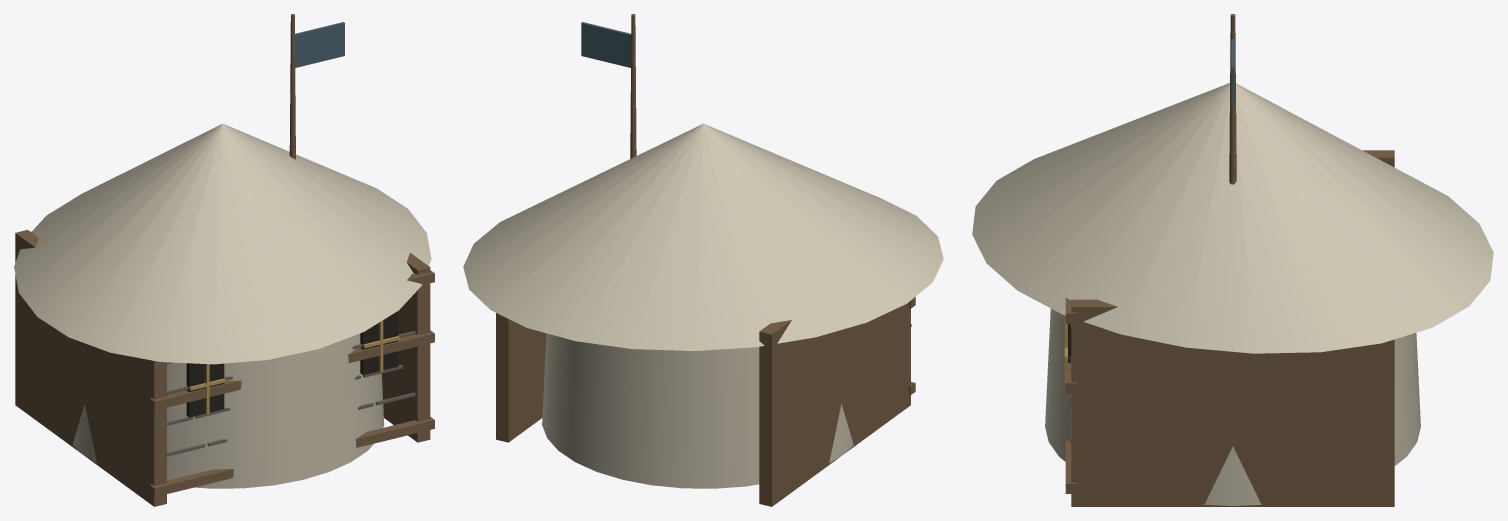
File: b-house-steppe.glb
The picture shows the model from 3 angles, left to right: view 1: azimuth 30°, elevation 25°; view 2: azimuth 150°, elevation 25°; view 3: azimuth 270°, elevation 25°; orthographic projection. The views are drawn at different scales.
Parts seen in each view (by area): view 1: Structure; view 2: Structure; view 3: Structure.
Part boxes in pixels (box(x1,y1,x2,y2)): Structure: box(14, 14, 434, 506); Structure: box(463, 14, 943, 506); Structure: box(972, 14, 1493, 506).
Bounding box in the file's own units: 5.55 × 5.33 × 5.55.
